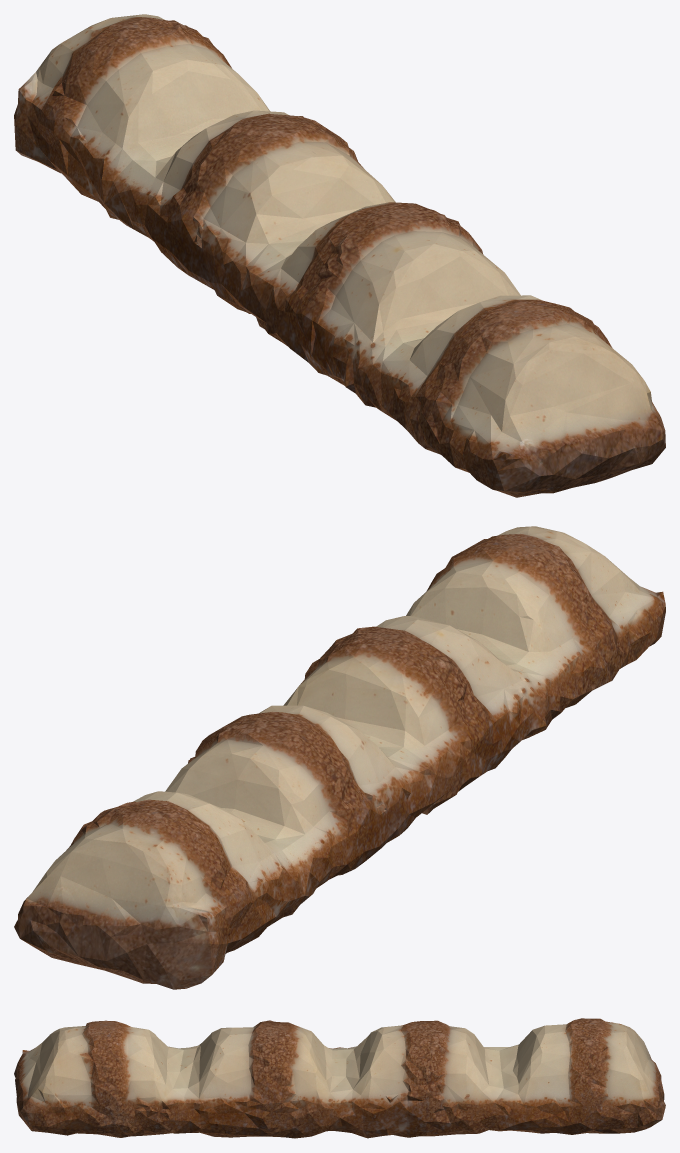
File: 96GSA5II1IB8ESHEOW1DNS7CD.obj
3 renders of one model, top to bottom at view 1: azimuth 30°, elevation 25°; view 2: azimuth 150°, elevation 25°; view 3: azimuth 270°, elevation 25°, orthographic. The views are drawn at different scales.
Visible parts, largest first — view 1: Object_TexMap_0; view 2: Object_TexMap_0; view 3: Object_TexMap_0.
Part boxes in pixels (x1,y1,x2,y2): Object_TexMap_0: (14, 14, 665, 497); Object_TexMap_0: (14, 526, 665, 989); Object_TexMap_0: (14, 1018, 665, 1138).
Bounding box in the file's own units: 0.5599 × 0.4032 × 2.5.
1 material, 1 textured.
